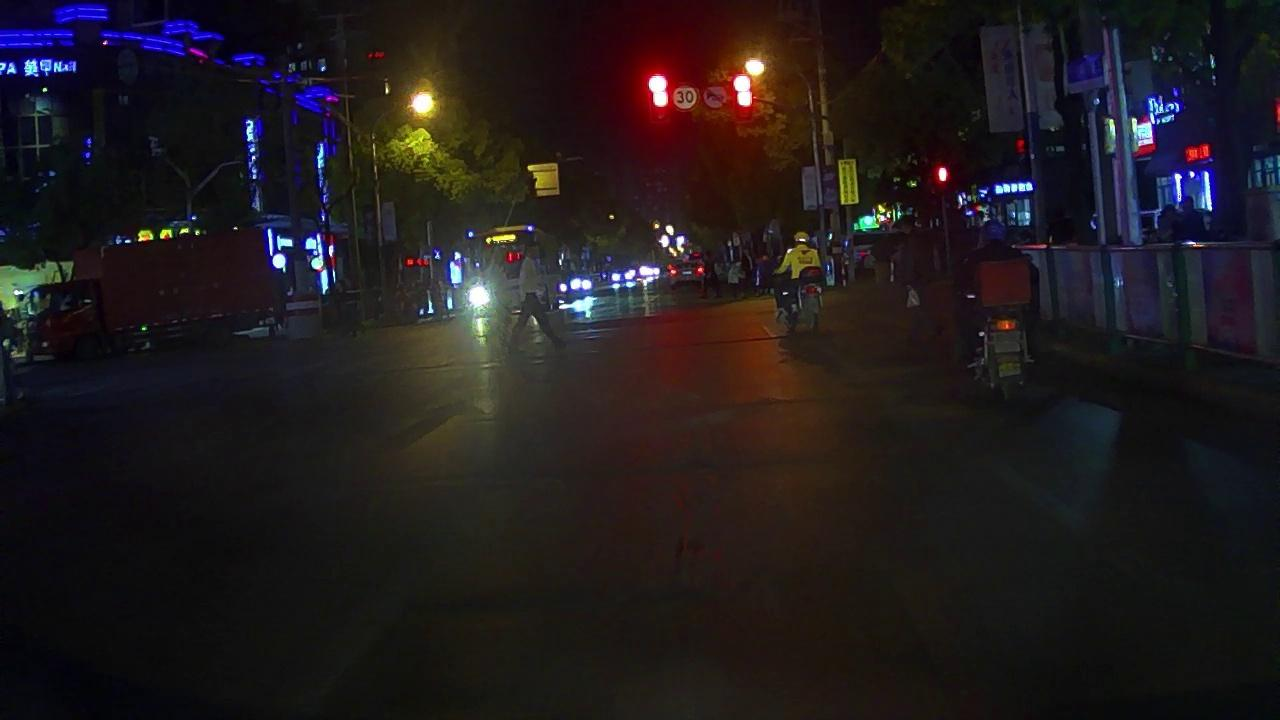traffic_light: (645, 68, 675, 114), (731, 73, 760, 111)
